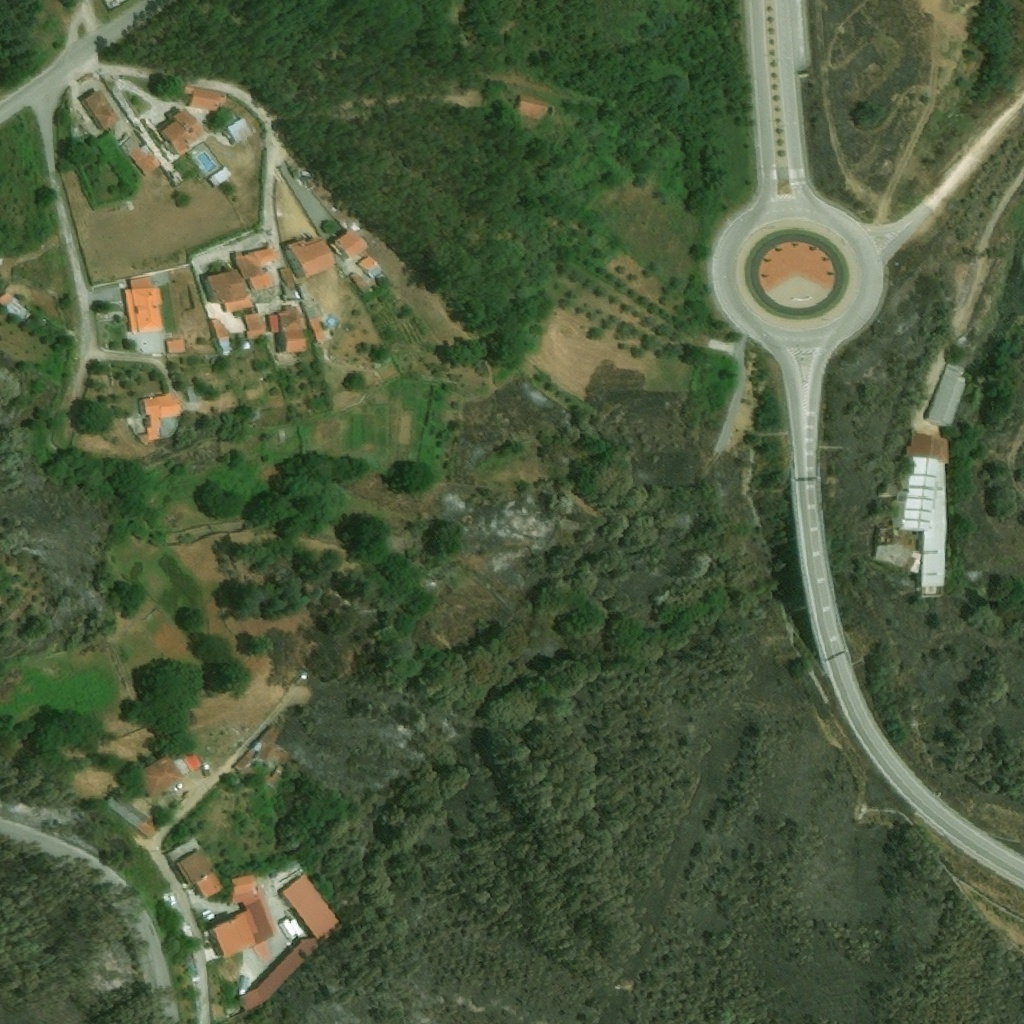0 no-damage: (236, 874, 355, 1021), (207, 874, 277, 964), (231, 725, 306, 781), (162, 836, 224, 900), (924, 362, 972, 431), (102, 791, 162, 842), (124, 276, 168, 334), (138, 391, 184, 443), (204, 269, 257, 312), (285, 237, 339, 279), (298, 283, 333, 344), (162, 109, 206, 157), (235, 246, 281, 291), (271, 304, 312, 352), (81, 89, 123, 132), (183, 85, 228, 114), (334, 228, 371, 261), (127, 144, 161, 176), (0, 292, 32, 321), (224, 118, 254, 144), (245, 312, 268, 339), (210, 316, 232, 342), (208, 167, 233, 189), (360, 253, 382, 275), (165, 338, 187, 355)
1 minor-damage: (134, 754, 184, 798)
2 major-damage: (873, 433, 952, 608)
